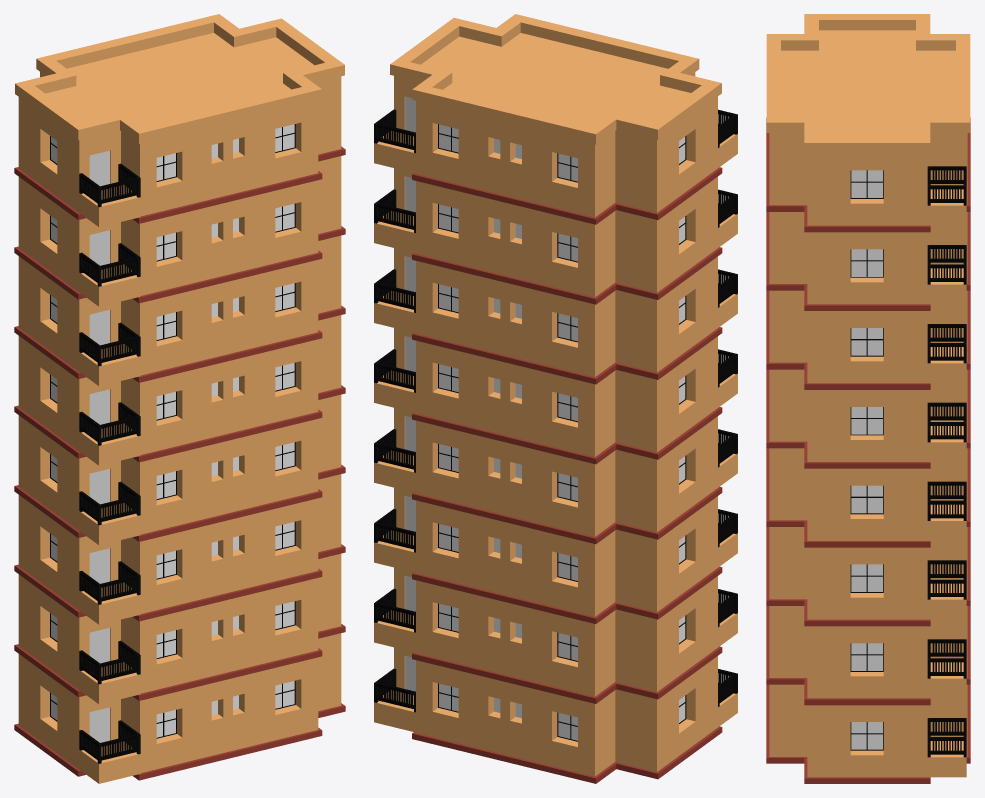
File: Onyx.fbx
The picture shows the model from 3 angles, left to right: view 1: azimuth 30°, elevation 25°; view 2: azimuth 150°, elevation 25°; view 3: azimuth 270°, elevation 25°; orthographic projection.
Parts seen in each view (by area): view 1: building_007; view 2: building_007; view 3: building_007.
Boxes of the visible parts, x1,y1,x2,y2 form: building_007: [14, 14, 345, 783]; building_007: [374, 14, 737, 783]; building_007: [766, 14, 970, 783].
Bounding box in the file's own units: 1020 × 2358 × 681.
